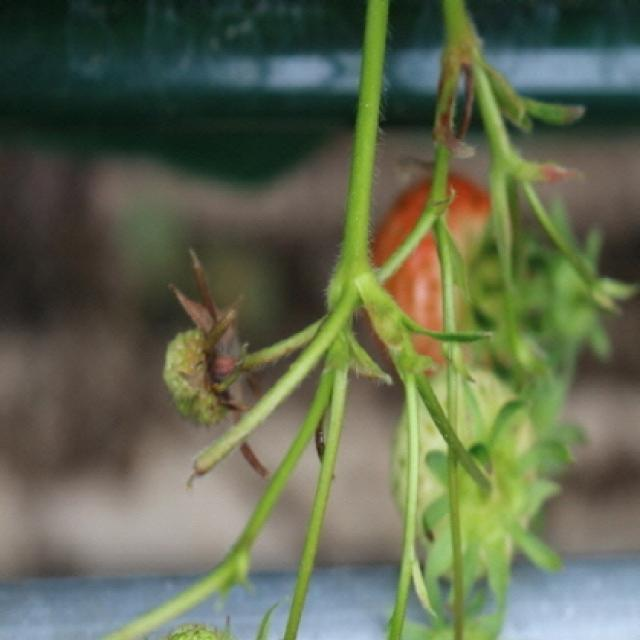Gray Mold: (162, 252, 268, 477)
